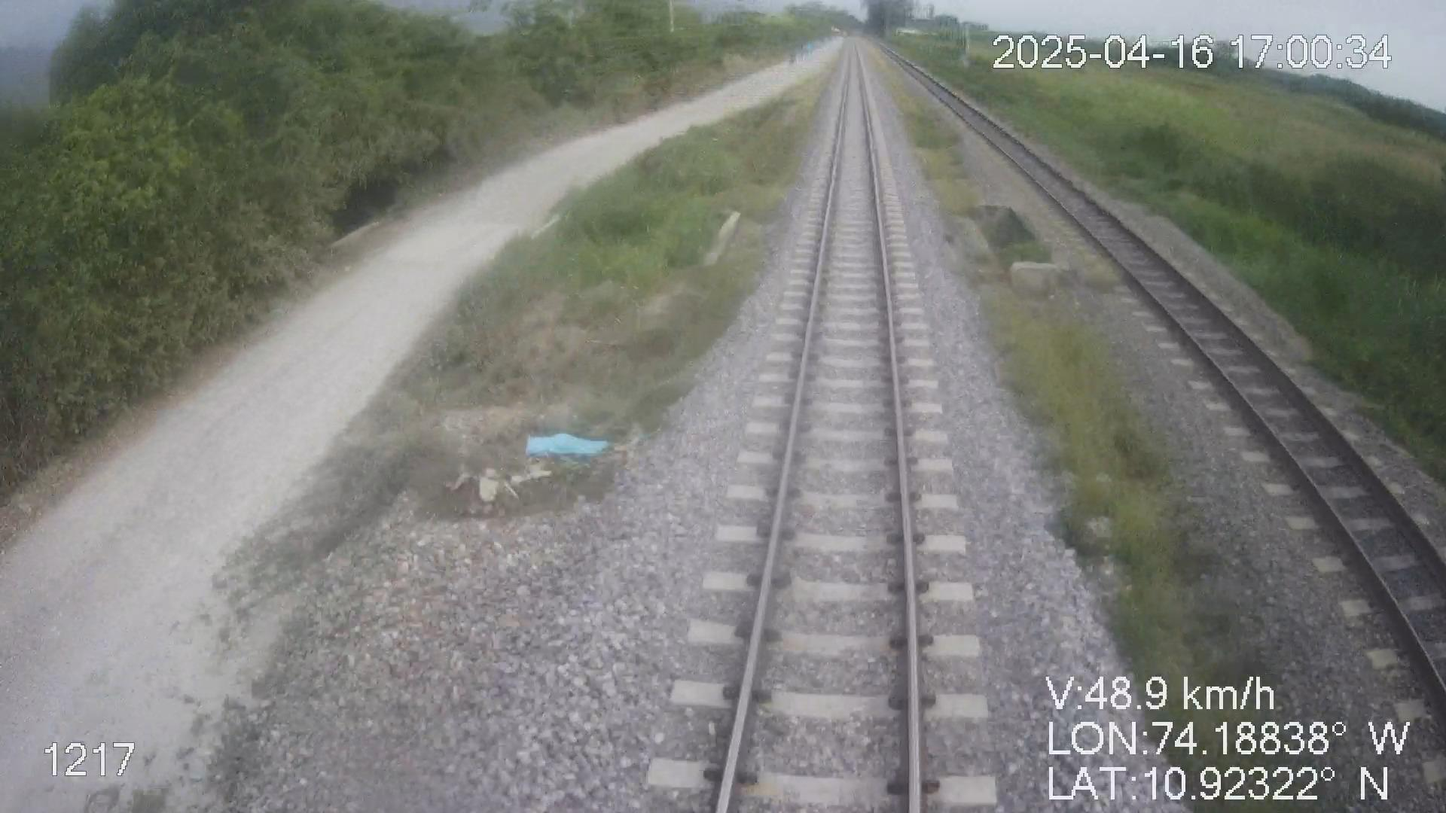Pasto: (0, 0, 834, 508), (889, 18, 1445, 494)
